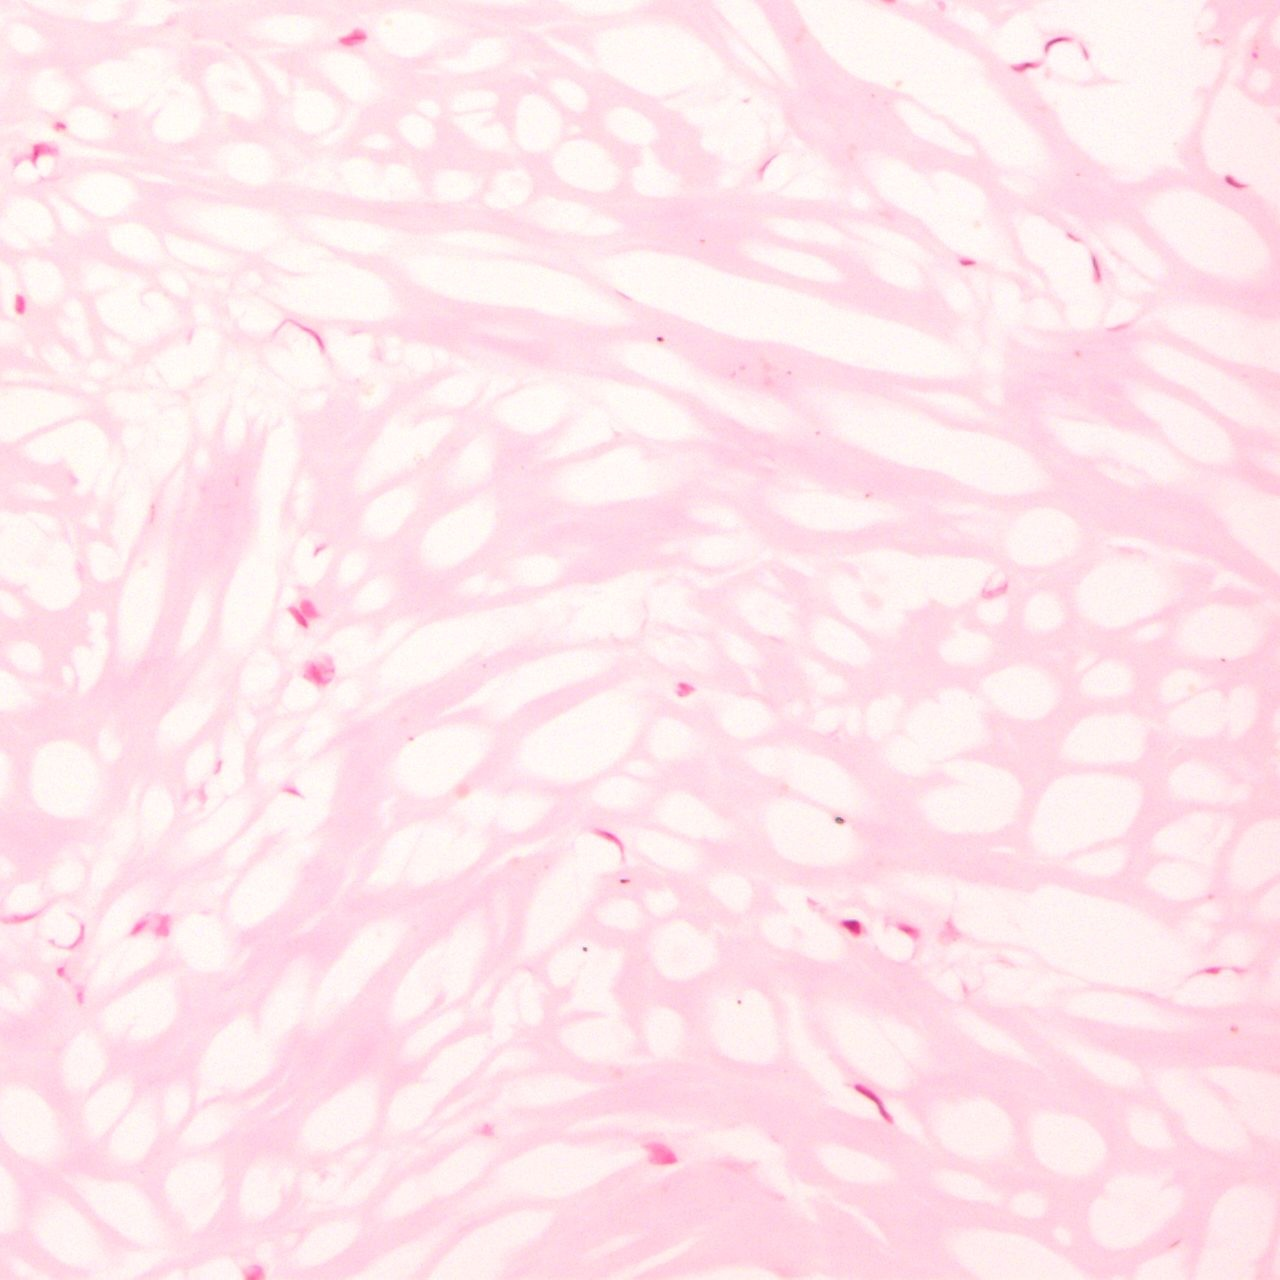dust: (835, 816, 845, 825), (1227, 1024, 1238, 1034), (1073, 349, 1082, 358), (619, 878, 629, 884), (655, 336, 663, 342), (787, 370, 792, 375), (583, 946, 587, 951), (737, 999, 741, 1005), (864, 493, 870, 497), (815, 431, 821, 435)
nucleus-AC: (851, 1077, 898, 1126), (1034, 26, 1073, 61), (300, 658, 335, 692), (282, 601, 312, 634), (338, 23, 370, 52), (644, 1141, 679, 1166), (125, 912, 154, 944), (297, 594, 324, 625), (595, 825, 626, 850), (1223, 170, 1250, 195), (1007, 56, 1039, 76), (154, 913, 175, 939), (840, 917, 862, 937), (238, 1267, 268, 1280), (675, 682, 697, 700), (29, 142, 45, 166), (13, 293, 26, 315), (958, 257, 976, 267)
